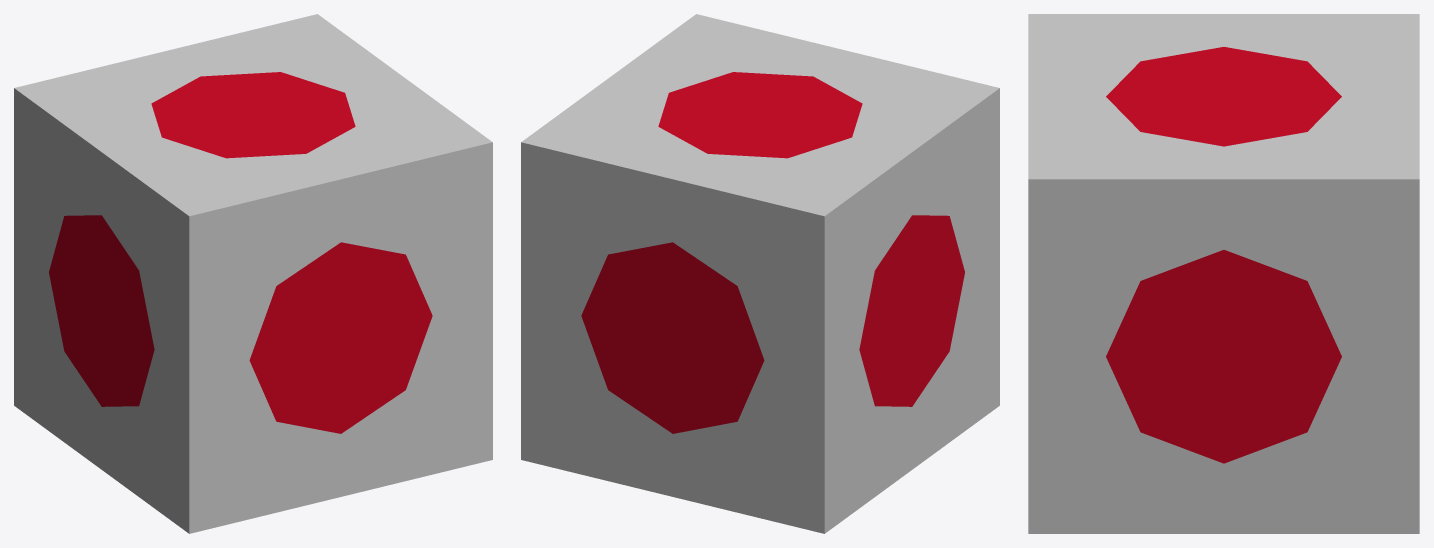
Rendered from Player02.fbx.
3 renders of one model, left to right at view 1: azimuth 30°, elevation 25°; view 2: azimuth 150°, elevation 25°; view 3: azimuth 270°, elevation 25°, orthographic. The views are drawn at different scales.
Parts seen in each view (by area): view 1: Cube.001; view 2: Cube.001; view 3: Cube.001.
Part boxes in pixels (x1,y1,x2,y2): Cube.001: (14,14,492,533); Cube.001: (521,14,999,533); Cube.001: (1028,14,1419,533).
Size of the model in its own units: 100 by 100 by 100.
